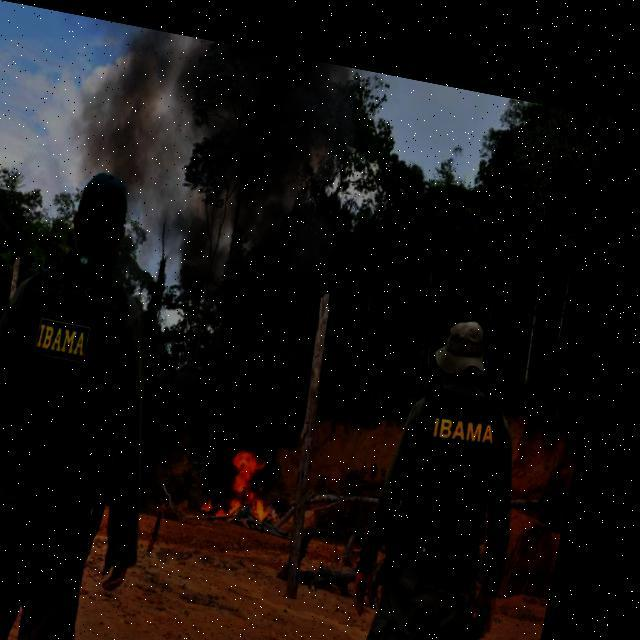Fire: (221, 432, 300, 512)
